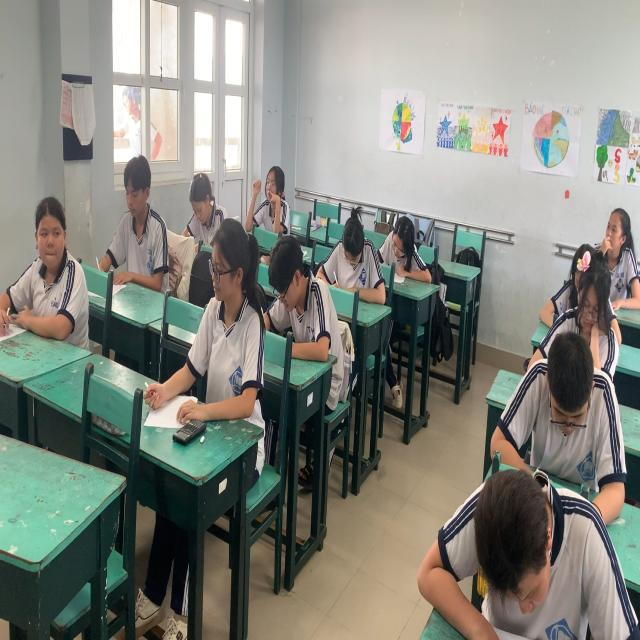cheating: (23, 195, 89, 330)
not_cheating: (438, 461, 608, 637), (192, 230, 266, 420), (258, 222, 338, 351), (525, 344, 610, 444), (109, 147, 167, 278), (328, 205, 384, 298), (569, 240, 614, 340), (245, 160, 297, 233), (177, 174, 223, 244), (381, 210, 416, 292)
